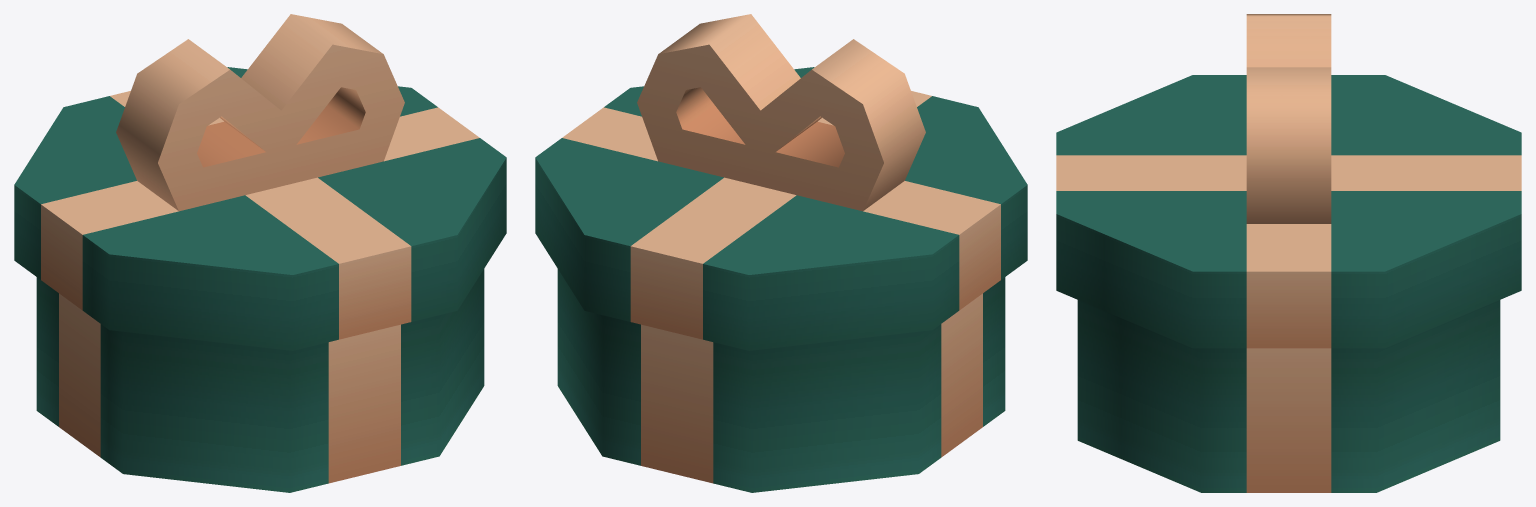
The model's file is k-holiday-present-b-round.glb.
3 views of the same model, side by side, from view 1: azimuth 30°, elevation 25°; view 2: azimuth 150°, elevation 25°; view 3: azimuth 270°, elevation 25° (orthographic).
Parts seen in each view (by area): view 1: lid, present-b-round; view 2: lid, present-b-round; view 3: lid, present-b-round.
Boxes of the visible parts, left/top/right/bottom form: lid: left=14, top=14, right=506, bottom=350; present-b-round: left=36, top=269, right=484, bottom=492; lid: left=535, top=14, right=1027, bottom=350; present-b-round: left=557, top=269, right=1005, bottom=492; lid: left=1056, top=14, right=1521, bottom=348; present-b-round: left=1077, top=300, right=1500, bottom=492.
Bounding box in the file's own units: 0.5489 × 0.4707 × 0.5489.
Materials: 1 (1 with a texture image).
